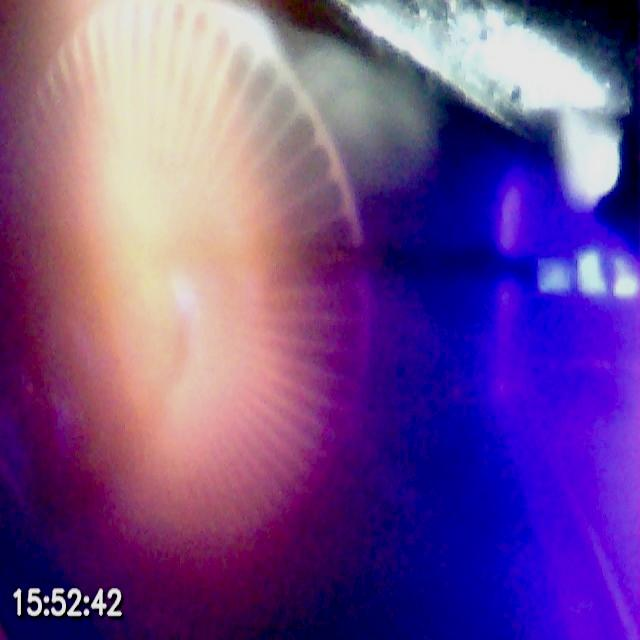white-dots: (536, 246, 640, 303)
